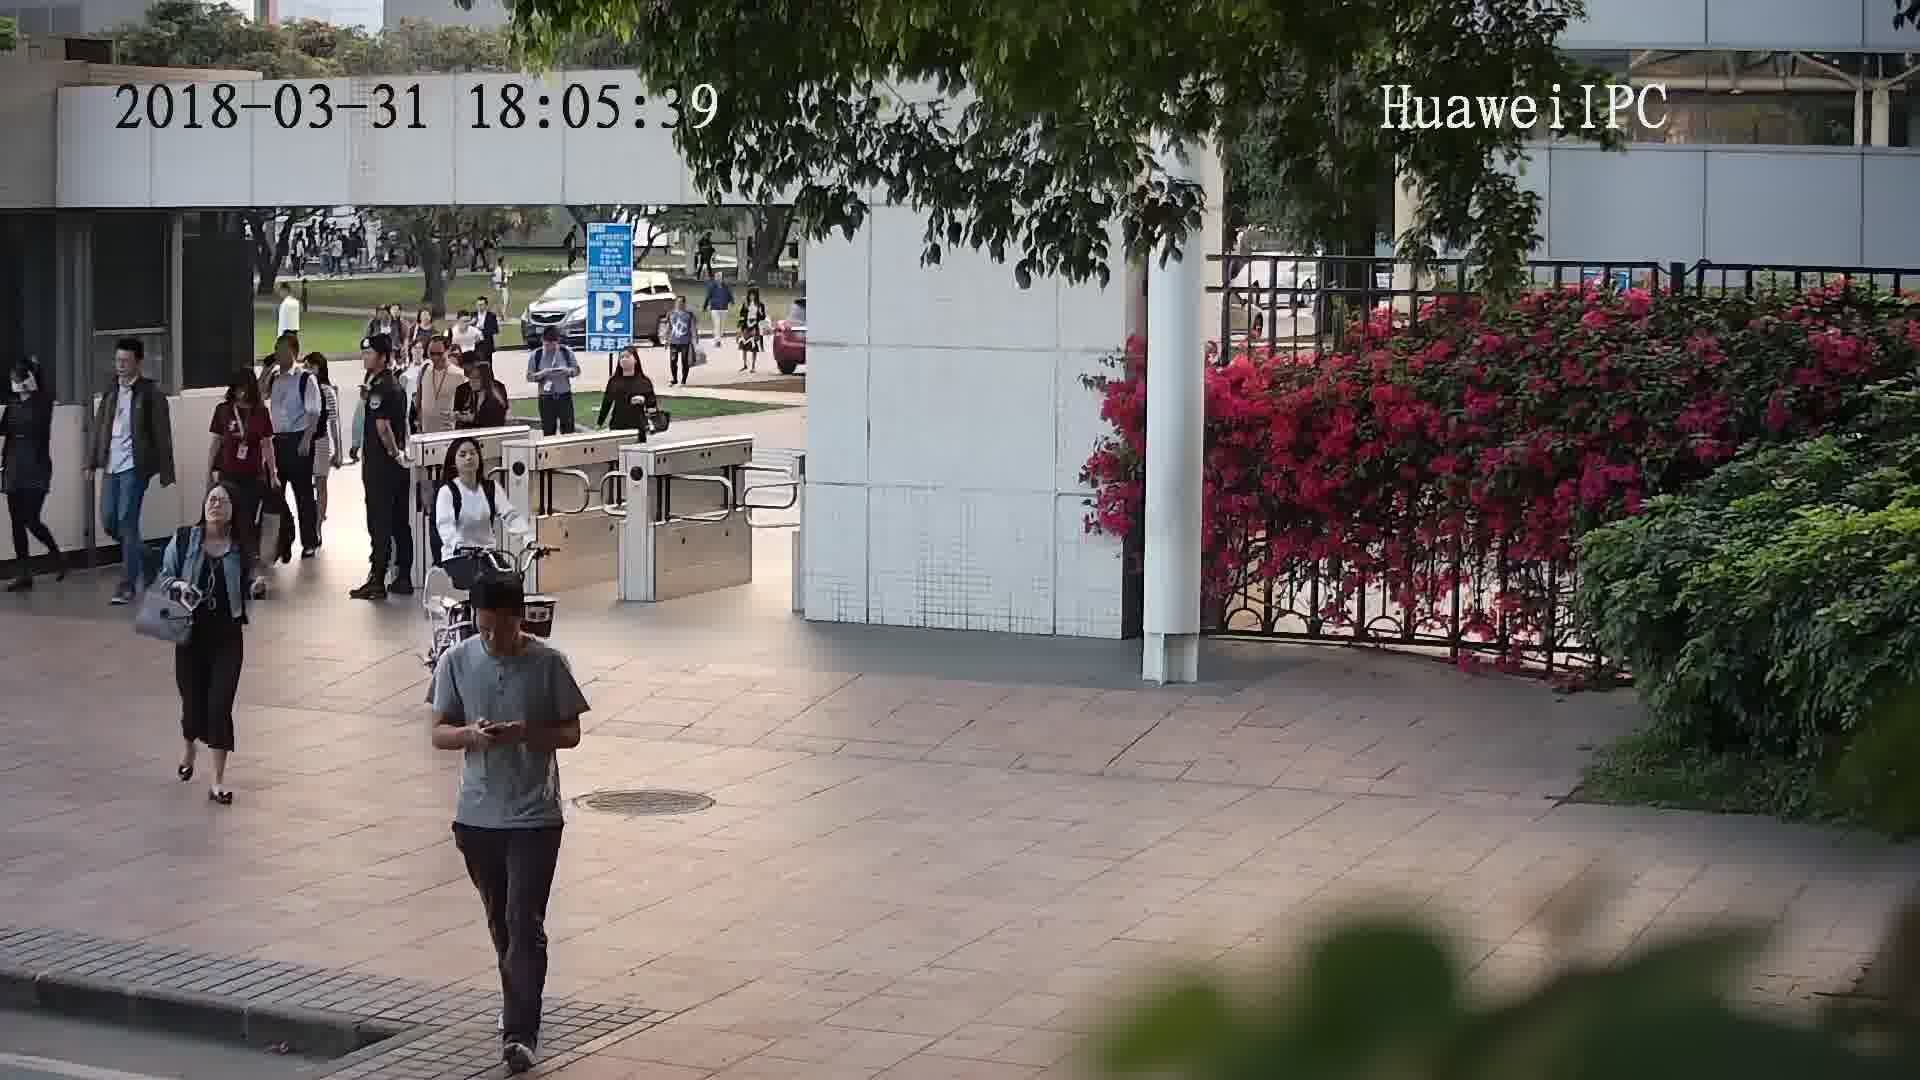face: (471, 602, 525, 656), (198, 484, 234, 529), (452, 441, 483, 479)
person: (438, 573, 574, 690), (173, 479, 255, 568), (96, 335, 169, 407), (438, 437, 499, 501), (215, 368, 271, 428), (358, 333, 406, 396), (5, 353, 53, 415), (266, 329, 313, 391), (419, 335, 467, 386), (462, 355, 509, 406), (305, 348, 344, 406), (607, 343, 654, 390), (534, 323, 576, 366), (364, 302, 408, 341), (401, 335, 433, 382), (406, 309, 442, 343), (276, 275, 304, 313), (469, 297, 497, 333), (451, 306, 481, 339), (670, 290, 694, 319), (746, 283, 767, 308), (710, 267, 731, 289)
